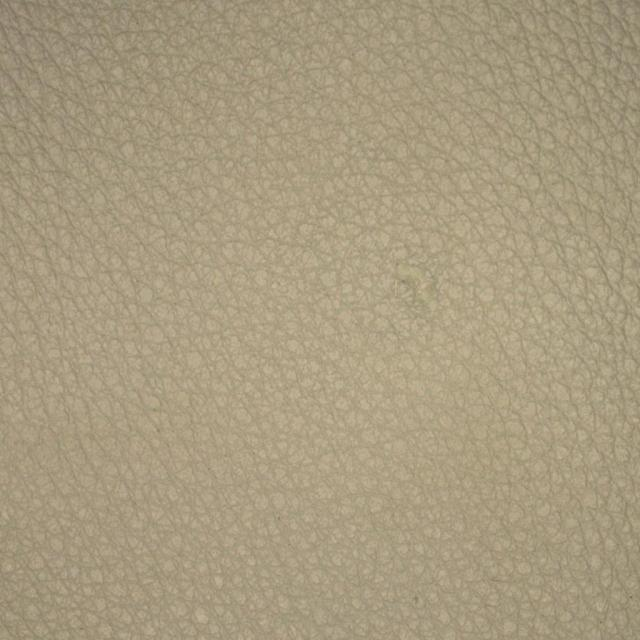Bacterial Injury: (354, 187, 492, 396)
